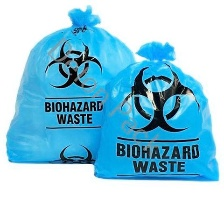plastic_bag: (0, 2, 149, 165), (86, 35, 224, 186)
